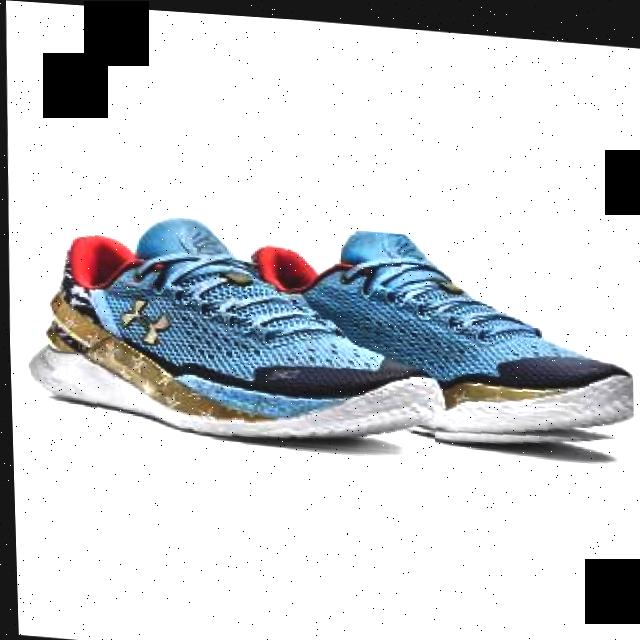shoe: (21, 204, 436, 452), (224, 216, 634, 448)
